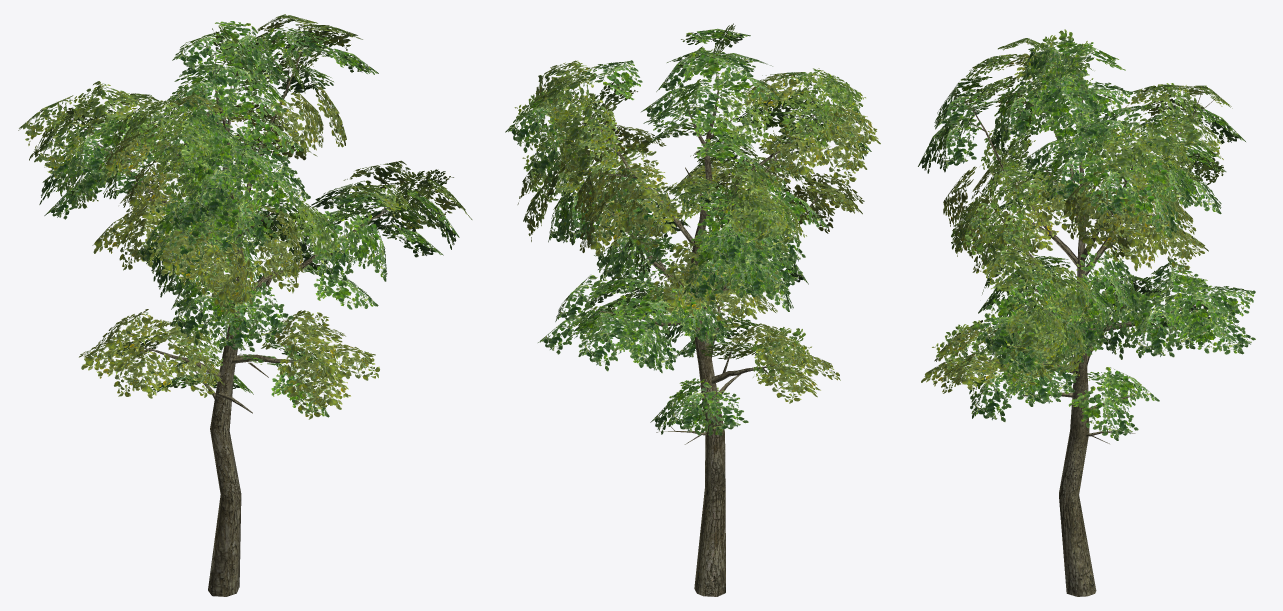
The model's file is tree1b_lod0.gltf.
3 views of the same model, side by side, from view 1: azimuth 30°, elevation 25°; view 2: azimuth 150°, elevation 25°; view 3: azimuth 270°, elevation 25° (orthographic). The views are drawn at different scales.
Parts seen in each view (by area): view 1: polySurface2290, polySurface1223; view 2: polySurface2290, polySurface1223; view 3: polySurface2290, polySurface1223.
Boxes of the visible parts, x1=… form: polySurface2290: x1=18, y1=14, x2=472, y2=419; polySurface1223: x1=48, y1=28, x2=402, y2=596; polySurface2290: x1=505, y1=23, x2=880, y2=435; polySurface1223: x1=562, y1=62, x2=836, y2=596; polySurface2290: x1=918, y1=29, x2=1255, y2=440; polySurface1223: x1=959, y1=62, x2=1223, y2=596.
Size of the model in its own units: 11.41 by 17.33 by 9.68.
2 materials, 2 textured.
